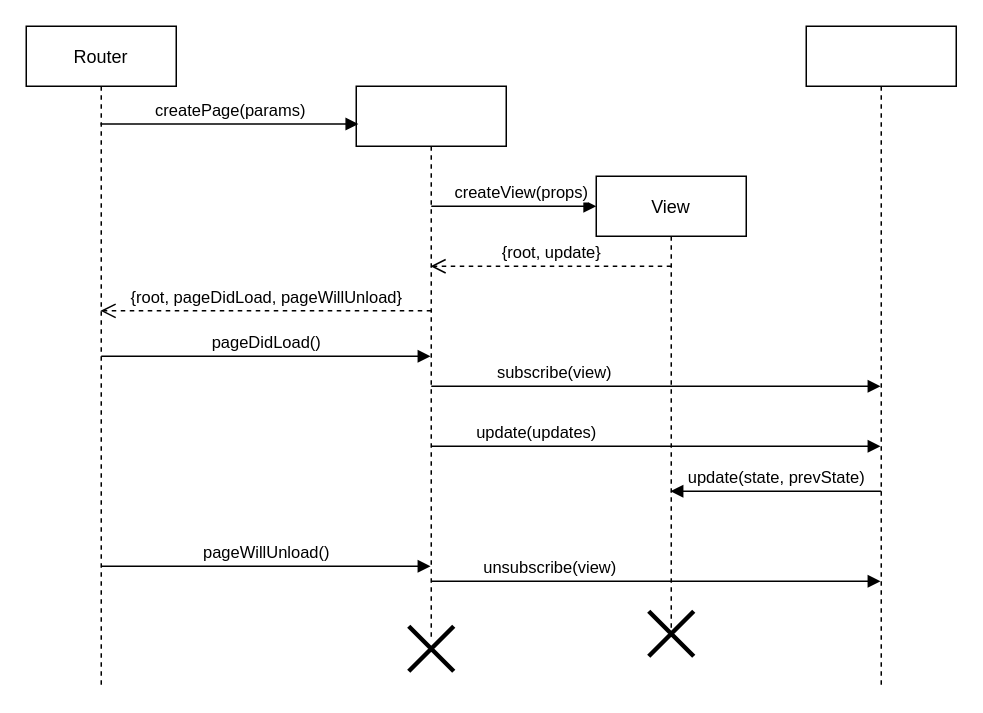
The diagram is 983 pixels wide and 713 high, and some of its shapes have lost their labels. The shapes that lost their labels are listed below. From the top down, each one's box as (x1, y1, x2, y2) in pixels, then its label:
(355, 85, 506, 641): Page object
(805, 25, 956, 686): State
